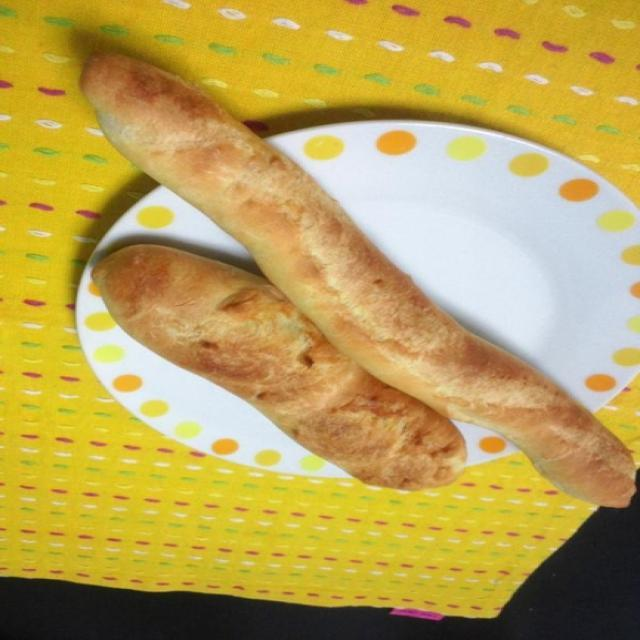Bread: (71, 46, 640, 530)
